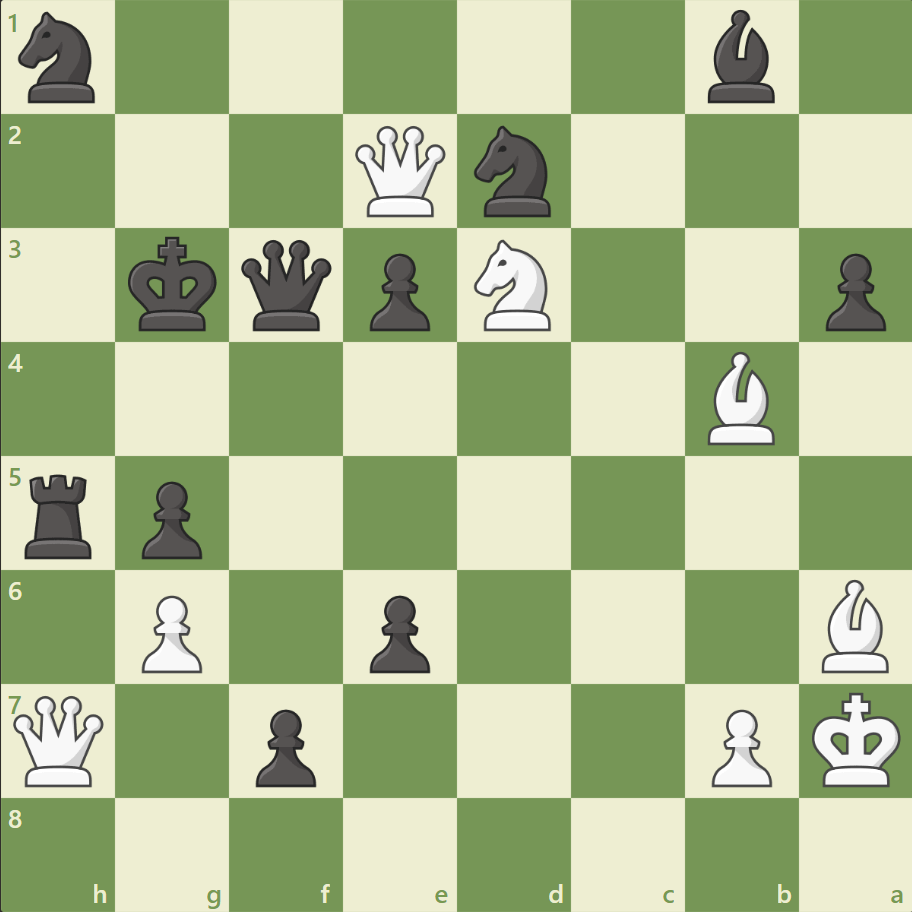B: (812, 574, 896, 676), (698, 347, 782, 449)
K: (806, 685, 906, 793)
N: (465, 234, 562, 337)
P: (701, 700, 776, 791), (133, 586, 208, 677)
Q: (351, 122, 450, 222), (10, 690, 109, 789)
b: (698, 6, 782, 109)
k: (124, 231, 224, 339)
n: (11, 7, 108, 110), (465, 121, 562, 223)
p: (247, 700, 322, 791), (133, 473, 208, 564), (361, 586, 435, 677), (815, 246, 889, 337), (361, 246, 435, 337)
q: (237, 236, 336, 335)
r: (19, 466, 102, 563)
